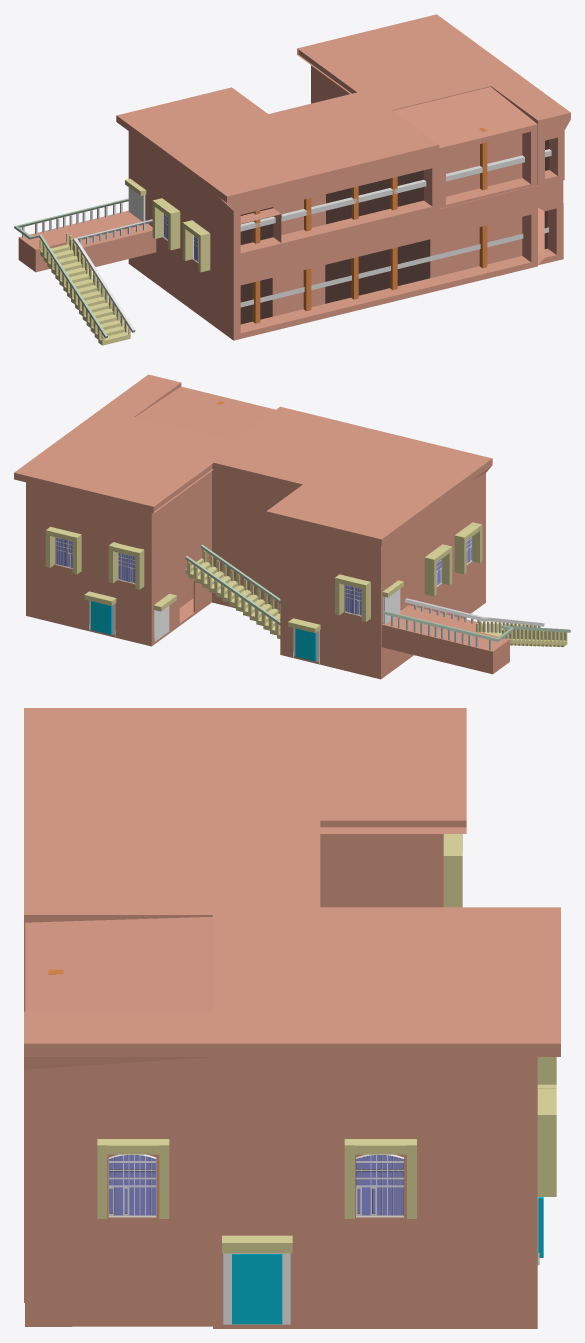
Rendered from SLR_1.fbx.
3 views of the same model, one above another, from view 1: azimuth 30°, elevation 25°; view 2: azimuth 150°, elevation 25°; view 3: azimuth 270°, elevation 25° (orthographic). The views are drawn at different scales.
Visible parts, largest first — view 1: Cube, Cube.039, Plane.027, Cube.021, Plane, Cube.020, Cube.040, Cube.041, Cube.026, Cube.024, Cube.022, Cube.025 (+4 smaller); view 2: Cube, Plane, Cube.012, Plane.027, Cube.039, Cube.040, Cube.041, Cube.050, Cube.051, Cube.013, Cube.029, Cube.032 (+8 smaller); view 3: Cube, Cube.049, Window.006, Window.005, Cube.006, CTRL_Hole.012, Cube.048, Cube.017, Cube.036, Cube.033, Cube.038, Cube.034 (+2 smaller).
Boxes of the visible parts, <box> form: Cube: <box>116,14,570,340</box>; Cube.039: <box>39,233,130,345</box>; Plane.027: <box>30,210,156,270</box>; Cube.021: <box>240,149,551,231</box>; Plane: <box>18,210,141,272</box>; Cube.020: <box>240,227,548,307</box>; Cube.040: <box>14,198,129,338</box>; Cube.041: <box>72,219,152,332</box>; Cube.026: <box>479,127,487,268</box>; Cube.024: <box>303,198,311,311</box>; Cube.022: <box>390,176,397,289</box>; Cube.025: <box>351,186,358,299</box>; Cube: <box>14,374,492,679</box>; Plane: <box>381,612,509,674</box>; Cube.012: <box>185,549,280,638</box>; Plane.027: <box>382,605,494,671</box>; Cube.039: <box>476,621,567,647</box>; Cube.040: <box>382,611,570,641</box>; Cube.041: <box>404,598,544,626</box>; Cube.050: <box>91,601,112,634</box>; Cube.051: <box>295,628,316,661</box>; Cube.013: <box>185,556,280,625</box>; Cube.029: <box>424,555,436,596</box>; Cube.032: <box>454,533,466,574</box>; Cube: <box>24,708,560,1328</box>; Cube.049: <box>232,1254,282,1324</box>; Window.006: <box>108,1155,156,1216</box>; Window.005: <box>356,1155,403,1216</box>; Cube.006: <box>537,1110,556,1188</box>; CTRL_Hole.012: <box>223,1253,290,1324</box>; Cube.048: <box>222,1235,292,1253</box>; Cube.017: <box>443,852,462,907</box>; Cube.036: <box>101,1139,164,1154</box>; Cube.033: <box>348,1139,411,1154</box>; Cube.038: <box>159,1139,169,1218</box>; Cube.034: <box>344,1139,354,1218</box>.
Bounding box in the file's own units: 13371 × 4102 × 6845.
